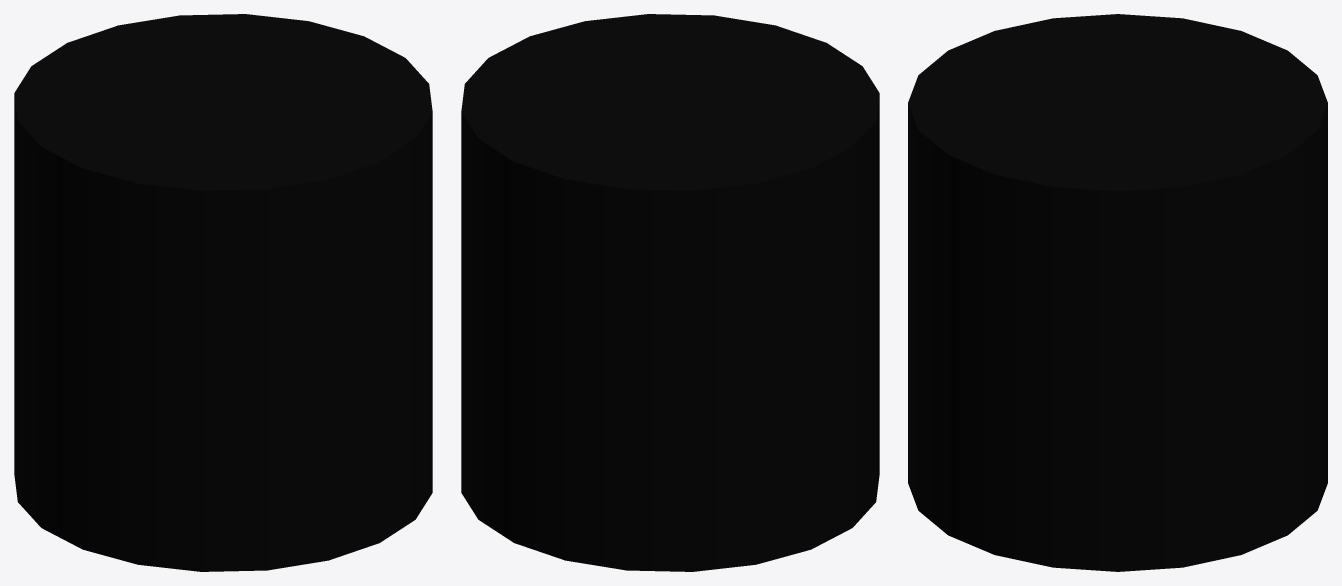
File: BaseCylinder.008.glb
The picture shows the model from 3 angles, left to right: view 1: azimuth 30°, elevation 25°; view 2: azimuth 150°, elevation 25°; view 3: azimuth 270°, elevation 25°; orthographic projection.
Visible parts, largest first — view 1: BaseCylinder.008; view 2: BaseCylinder.008; view 3: BaseCylinder.008.
Boxes of the visible parts, x1=… form: BaseCylinder.008: x1=14, y1=14, x2=432, y2=571; BaseCylinder.008: x1=461, y1=14, x2=879, y2=571; BaseCylinder.008: x1=908, y1=14, x2=1327, y2=571.
Size of what is drawn, in the model's own units: 0.7489 by 0.7489 by 0.7489.
1 material, 1 textured.
